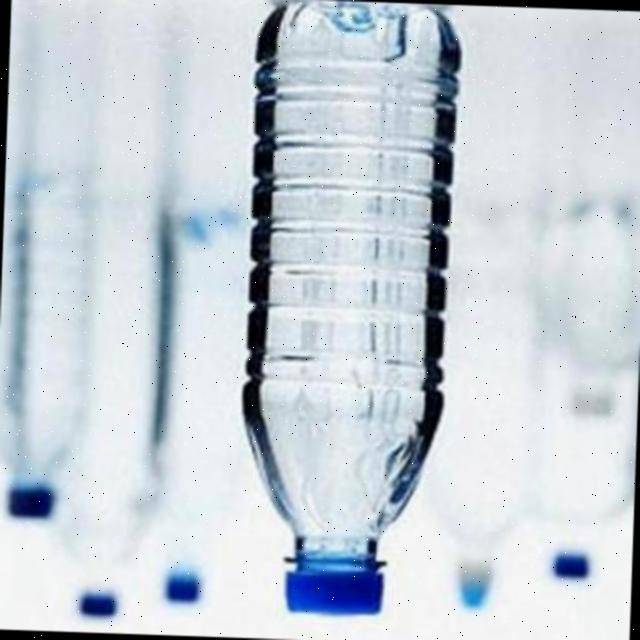bottle: (211, 0, 485, 629)
cap: (278, 544, 391, 619)
